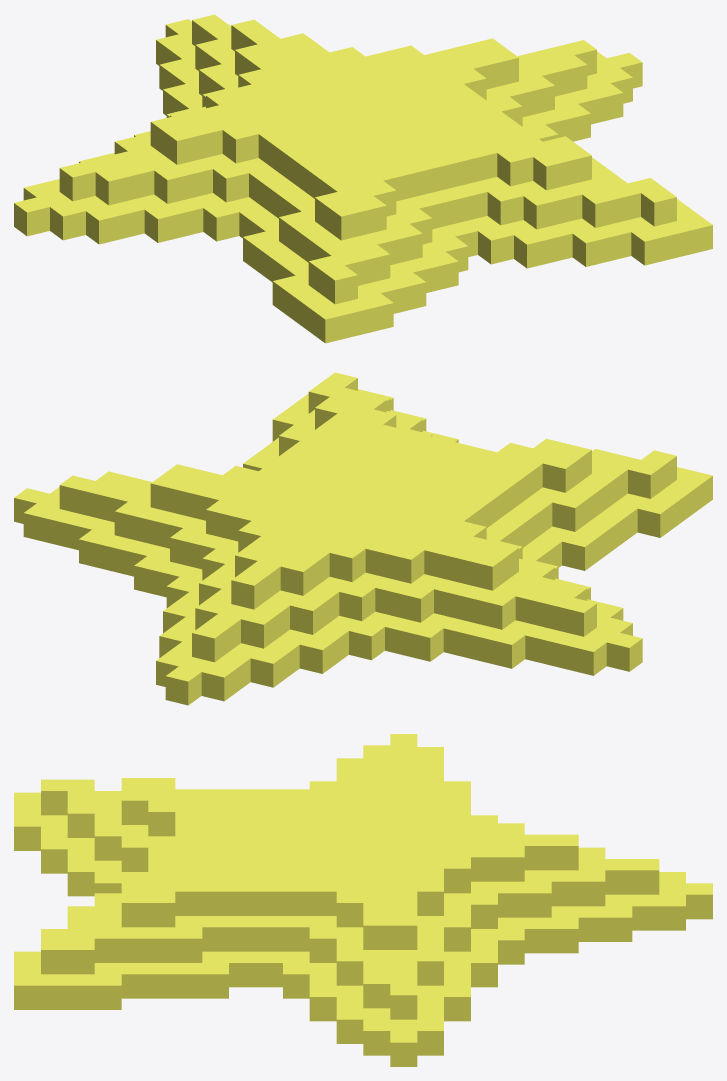
The model's file is star.obj.
3 renders of one model, top to bottom at view 1: azimuth 30°, elevation 25°; view 2: azimuth 150°, elevation 25°; view 3: azimuth 270°, elevation 25°, orthographic. The views are drawn at different scales.
Size of the model in its own units: 27 by 3 by 26.
